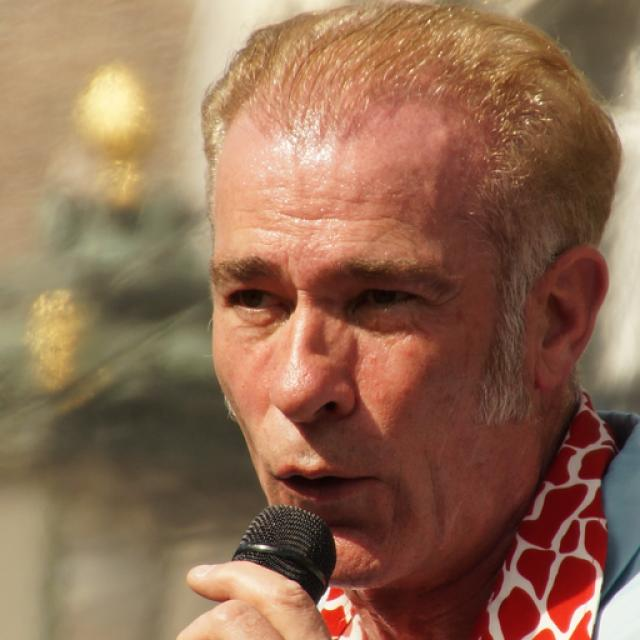Acne: (366, 379, 389, 409), (360, 348, 383, 372), (317, 334, 342, 349)
Wrinkle: (267, 207, 419, 227), (422, 457, 449, 539), (315, 233, 408, 250)
